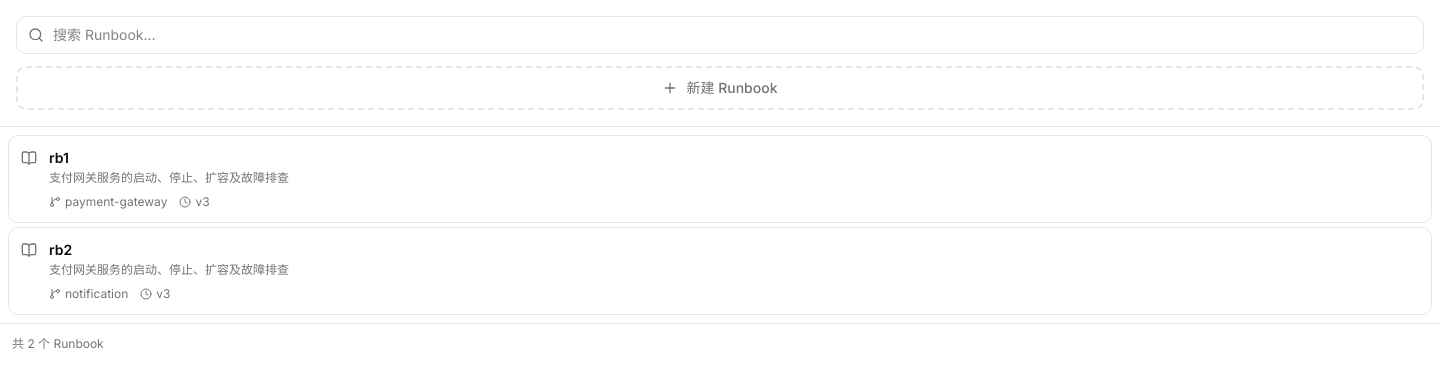
Test: RunbookList › filters runbooks by service
Type "payment" into the field with placeholder "搜索 Runbook..." at (720, 35), box [16,16,1424,54]
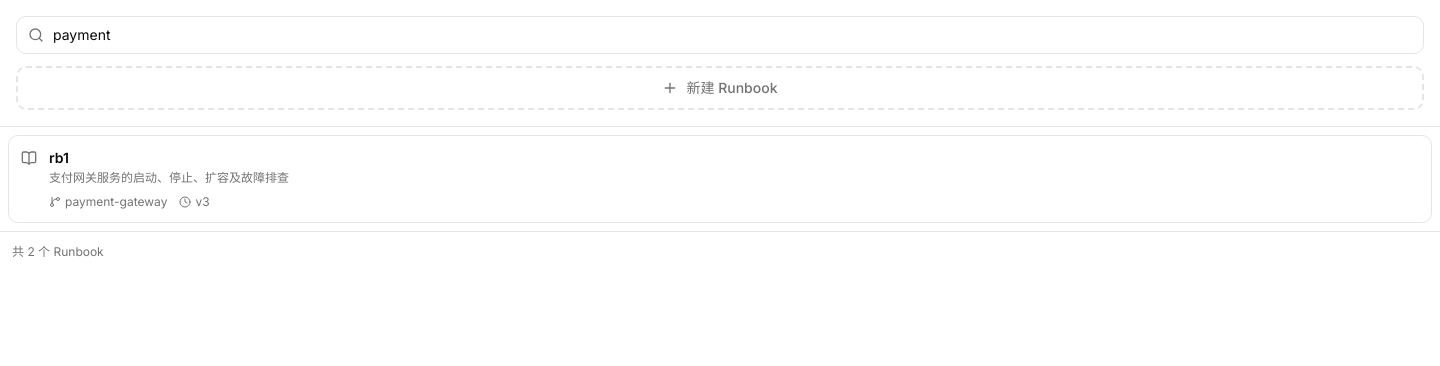
Expected: the heading "rb1" is shown, [49,149,69,166]
Expected: the button "rb2" is gone
